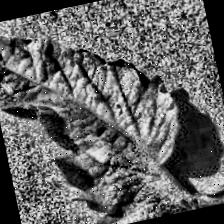leaf mold: (0, 0, 193, 224)
